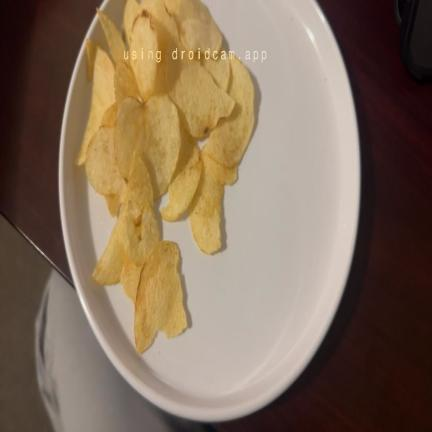chips: (76, 0, 254, 352), (167, 43, 235, 137), (135, 242, 187, 352), (203, 59, 254, 167), (75, 48, 115, 165), (140, 95, 181, 199), (123, 153, 160, 265), (190, 153, 227, 254), (161, 132, 202, 221), (124, 0, 178, 52), (86, 128, 126, 198), (130, 10, 157, 101), (176, 0, 222, 52), (93, 212, 125, 284), (123, 203, 160, 265), (115, 99, 144, 178), (141, 0, 178, 53), (125, 152, 153, 218), (97, 9, 126, 63), (201, 55, 230, 91), (121, 255, 142, 304), (115, 62, 138, 106), (124, 0, 141, 45), (86, 39, 97, 80), (101, 103, 117, 127), (105, 194, 120, 217), (164, 0, 181, 15)
plate: (60, 0, 359, 421)
